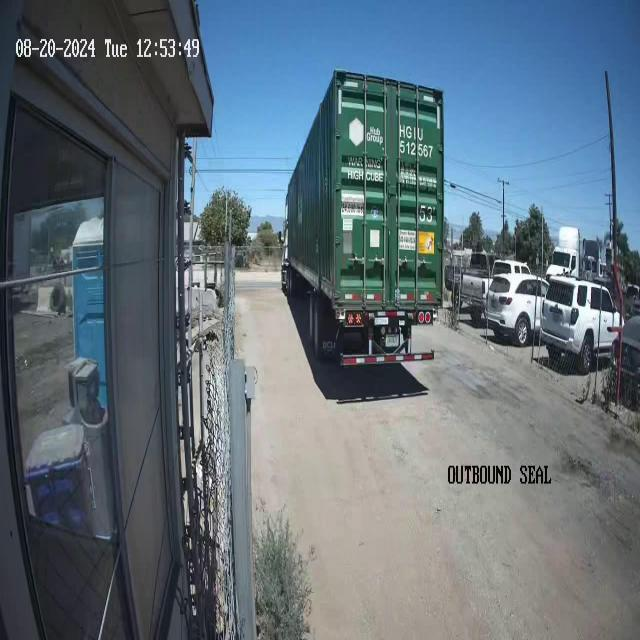TRUCK_OUT: (281, 68, 445, 366)
